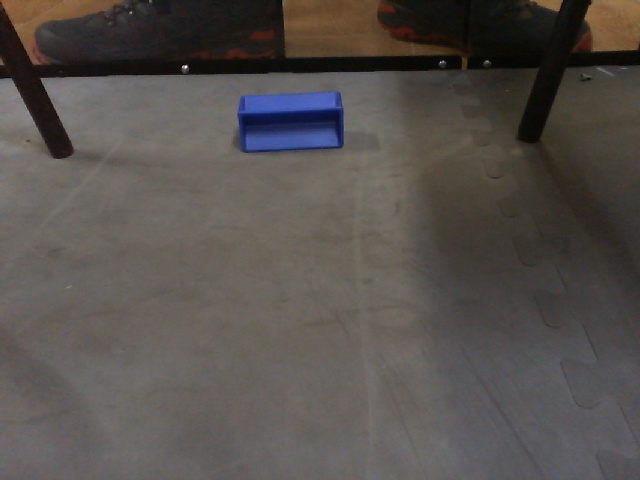BlueSample: (234, 87, 351, 155)
